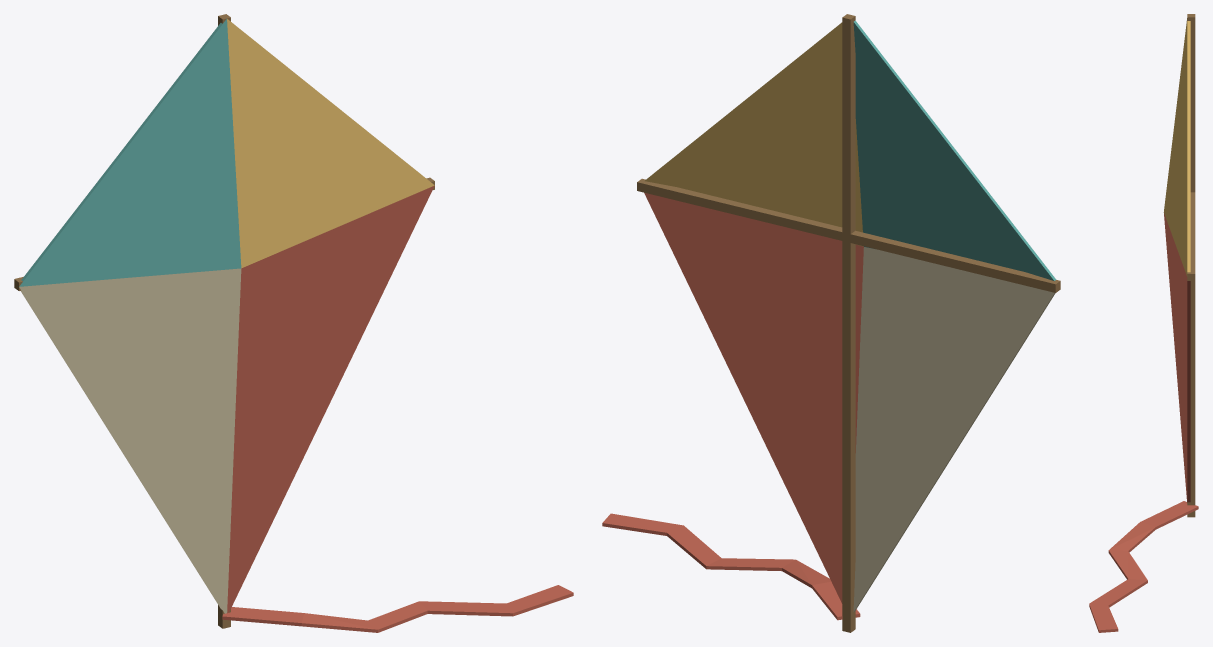
3 views of the same model, side by side, from view 1: azimuth 30°, elevation 25°; view 2: azimuth 150°, elevation 25°; view 3: azimuth 270°, elevation 25° (orthographic). The views are drawn at different scales.
Parts seen in each view (by area): view 1: WholeFourPanelFoldedSail, WholeBentRibbonTail; view 2: WholeFourPanelFoldedSail, WholeVerticalWoodenSpine, WholeTransverseWoodenSpar, WholeBentRibbonTail; view 3: WholeFourPanelFoldedSail, WholeBentRibbonTail, WholeVerticalWoodenSpine, WholeTransverseWoodenSpar.
Boxes of the visible parts, x1,y1,x2,y2 form: WholeFourPanelFoldedSail: (19,19,434,613); WholeBentRibbonTail: (222,585,573,632); WholeFourPanelFoldedSail: (644,20,1056,611); WholeVerticalWoodenSpine: (842,14,855,632); WholeTransverseWoodenSpar: (637,178,1060,292); WholeBentRibbonTail: (602,513,860,620); WholeFourPanelFoldedSail: (1163,18,1190,502); WholeBentRibbonTail: (1089,501,1198,632); WholeVerticalWoodenSpine: (1187,14,1195,517); WholeTransverseWoodenSpar: (1187,192,1195,280).
Size of the model in its own units: 0.2408 by 0.28 by 0.0556.
